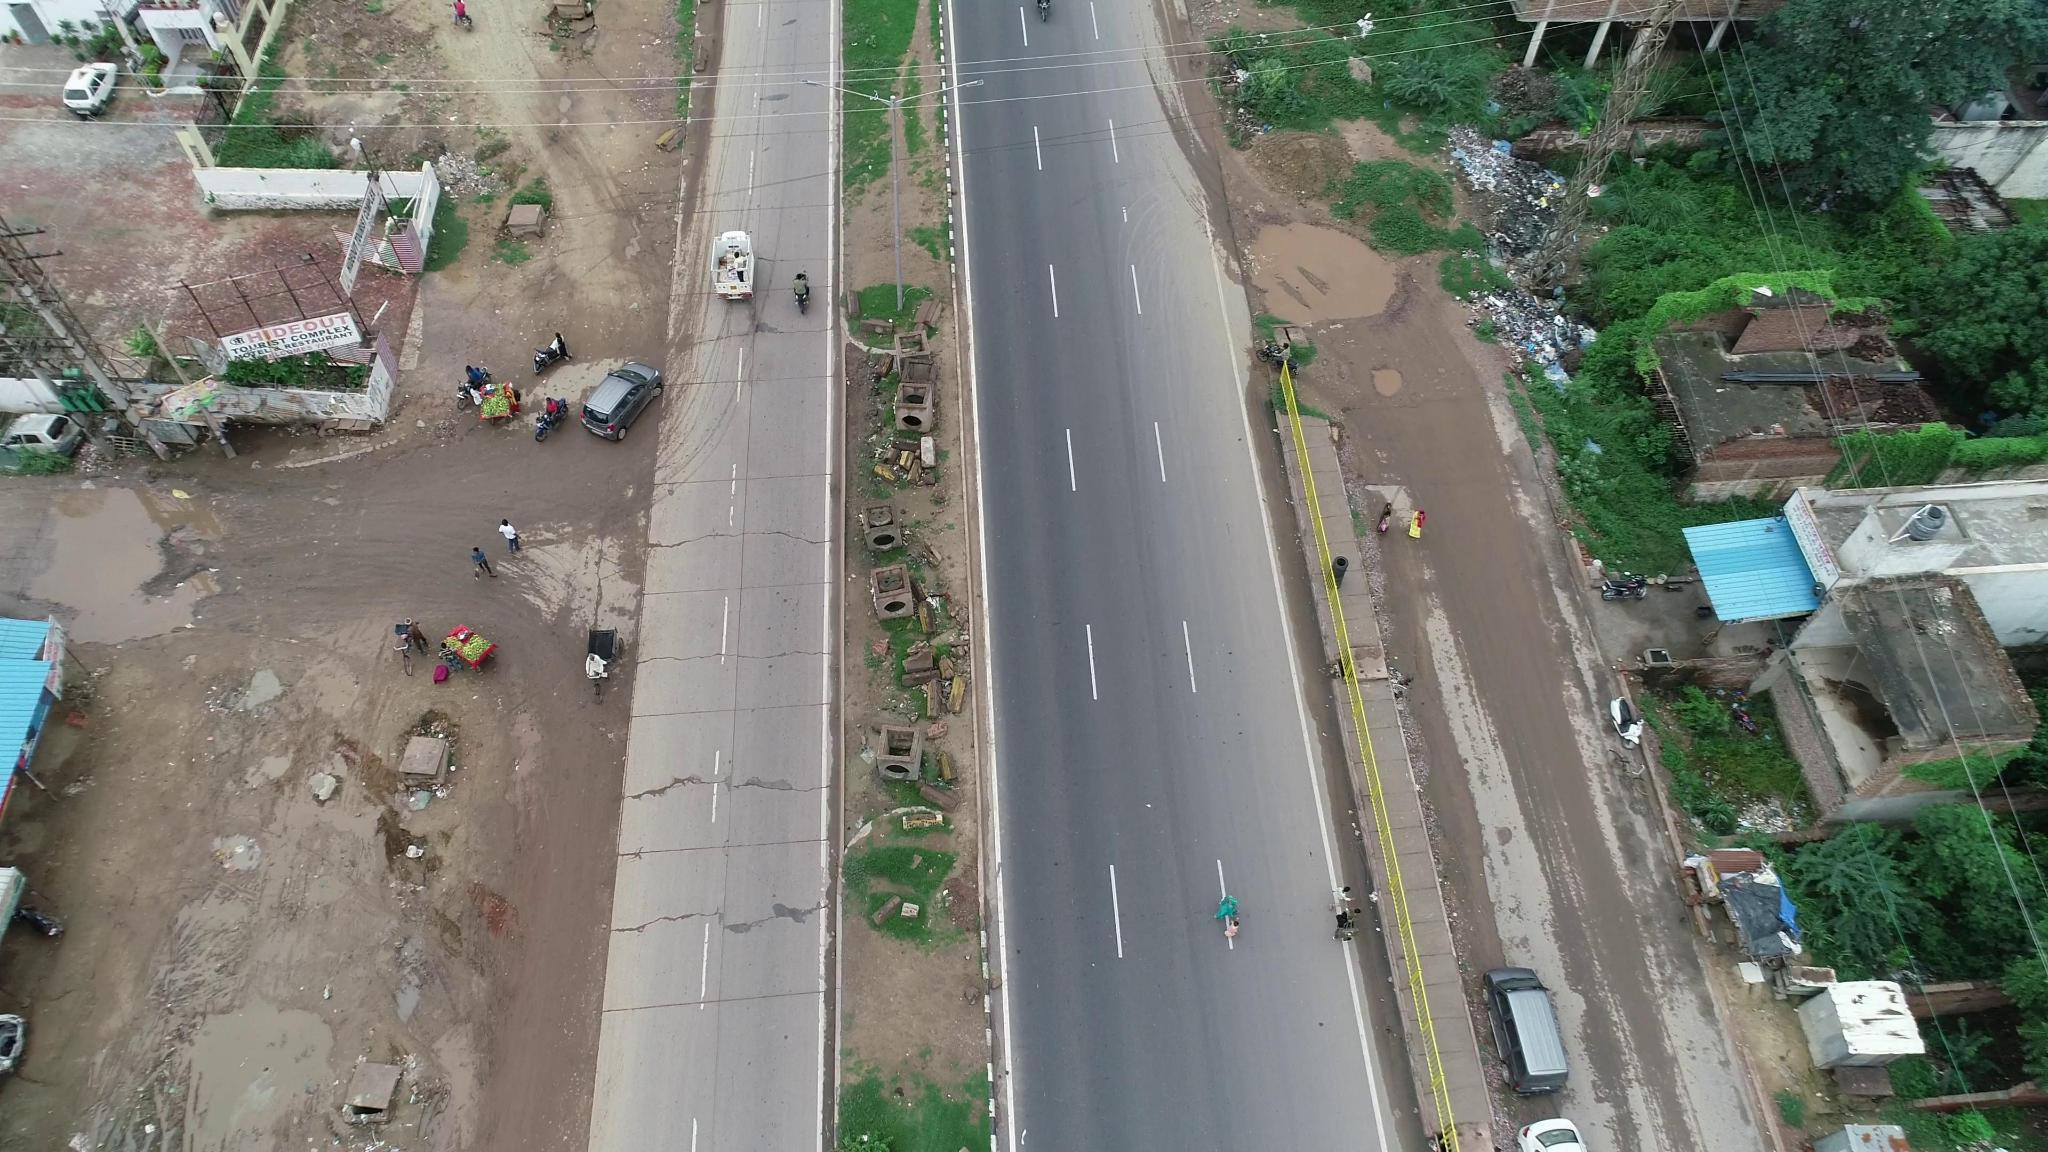Potholes: (1348, 333, 1421, 412)
Road_side_garbage: (1471, 132, 1566, 352)
